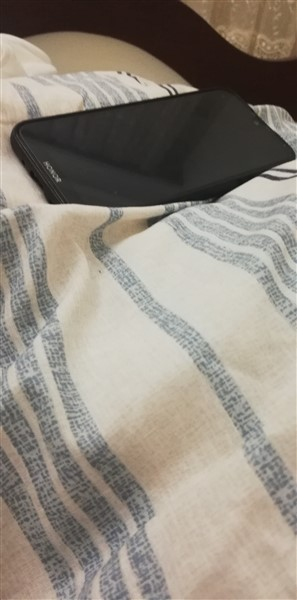telefon: (11, 83, 295, 213)
